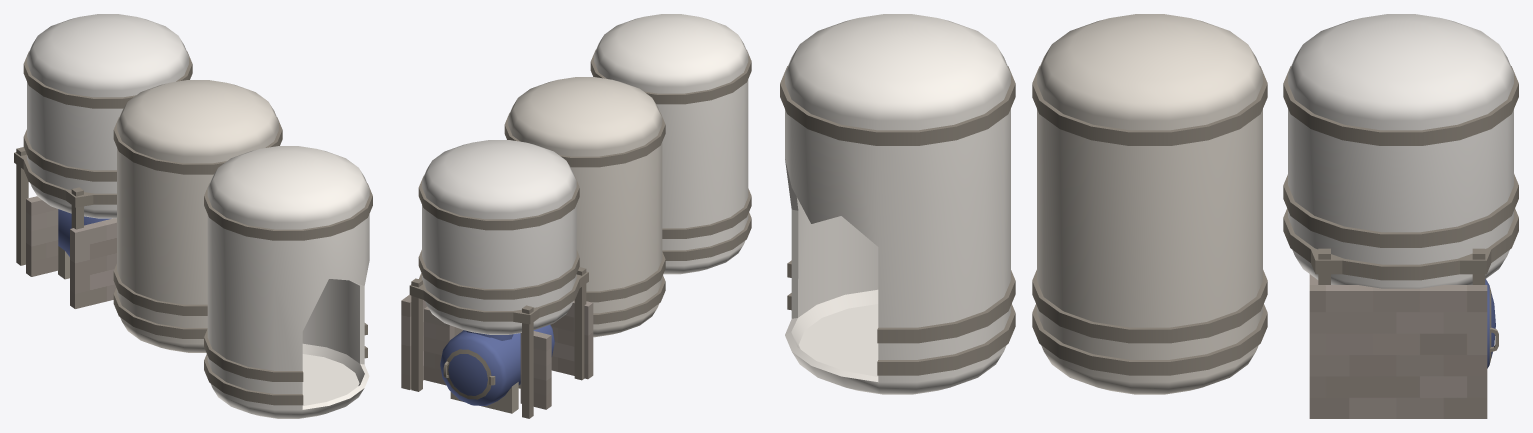
Rendered from Steam_Boiler_Boilers.FBX.
The picture shows the model from 3 angles, left to right: view 1: azimuth 30°, elevation 25°; view 2: azimuth 150°, elevation 25°; view 3: azimuth 270°, elevation 25°; orthographic projection. The views are drawn at different scales.
Visible parts, largest first — view 1: Steam_Boiler_Boilers; view 2: Steam_Boiler_Boilers, Door; view 3: Steam_Boiler_Boilers.
Boxes of the visible parts, <box> form: Steam_Boiler_Boilers: <box>14,14,372,418</box>; Steam_Boiler_Boilers: <box>401,14,751,418</box>; Door: <box>443,349,495,399</box>; Steam_Boiler_Boilers: <box>780,14,1518,418</box>.
Bounding box in the file's own units: 6.16 × 10.23 × 19.63.
